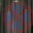No Stopping: (2, 1, 30, 32)
